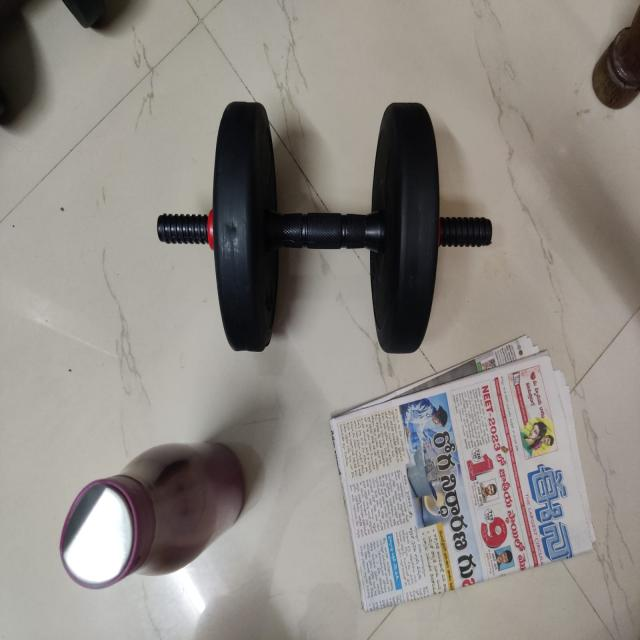metal: (140, 64, 518, 355), (27, 442, 286, 584)
paper: (304, 356, 598, 599)
